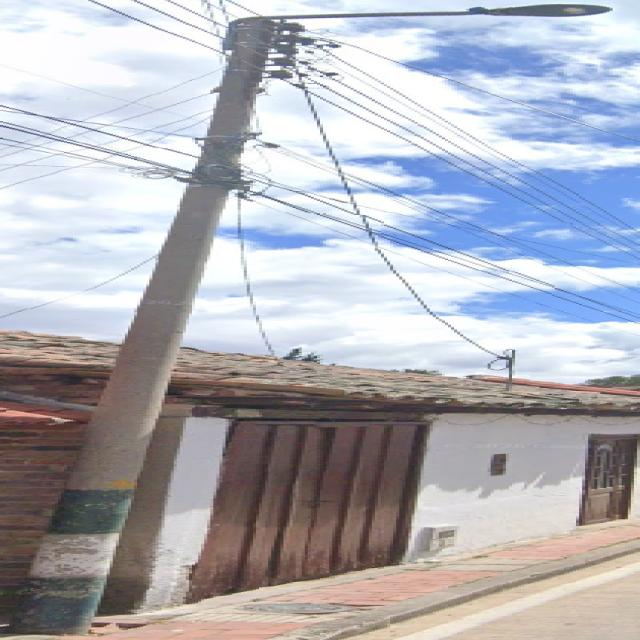Fachada: (104, 348, 634, 612), (6, 331, 116, 606)
Poste: (9, 14, 332, 635), (341, 4, 610, 17)
